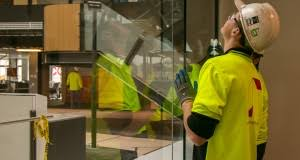Hard Hat: (234, 1, 279, 53)
